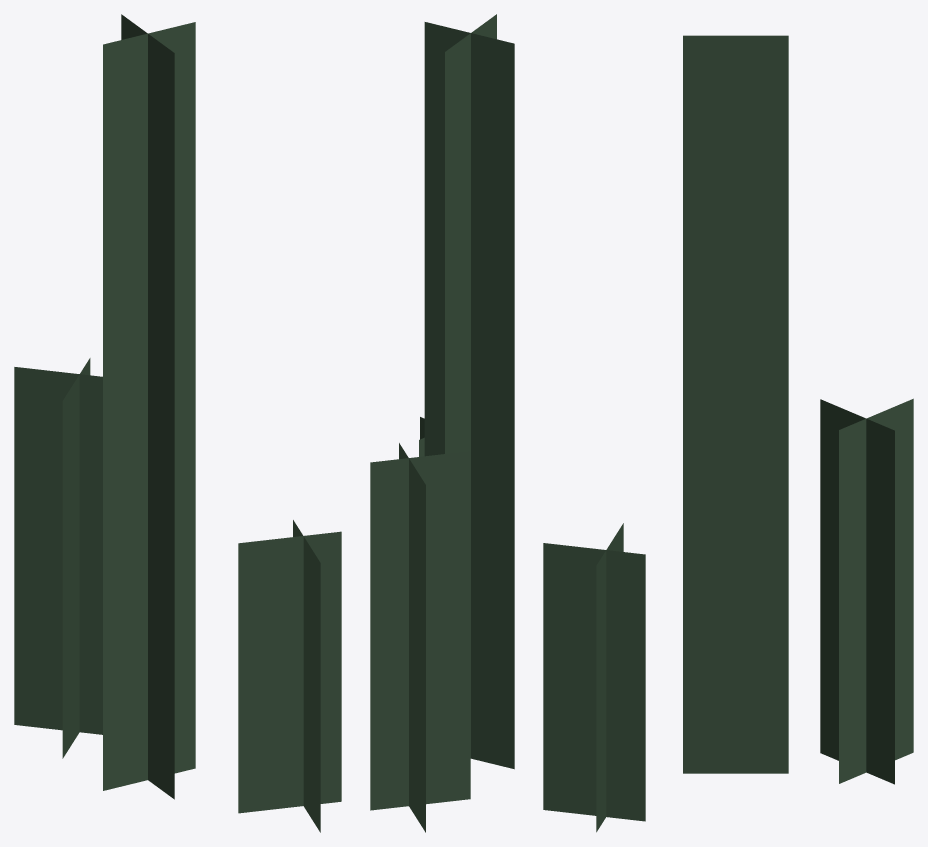
The model's file is MarshGrass2.fbx.
3 views of the same model, side by side, from view 1: azimuth 30°, elevation 25°; view 2: azimuth 150°, elevation 25°; view 3: azimuth 270°, elevation 25° (orthographic). The views are drawn at different scales.
Visible parts, largest first — view 1: Grass2; view 2: Grass2; view 3: Grass2.
Boxes of the visible parts, x1,y1,x2,y2 form: Grass2: [14, 14, 341, 832]; Grass2: [370, 14, 514, 832]; Grass2: [543, 35, 913, 832].
Bounding box in the file's own units: 0.7302 × 3.1 × 1.41.
